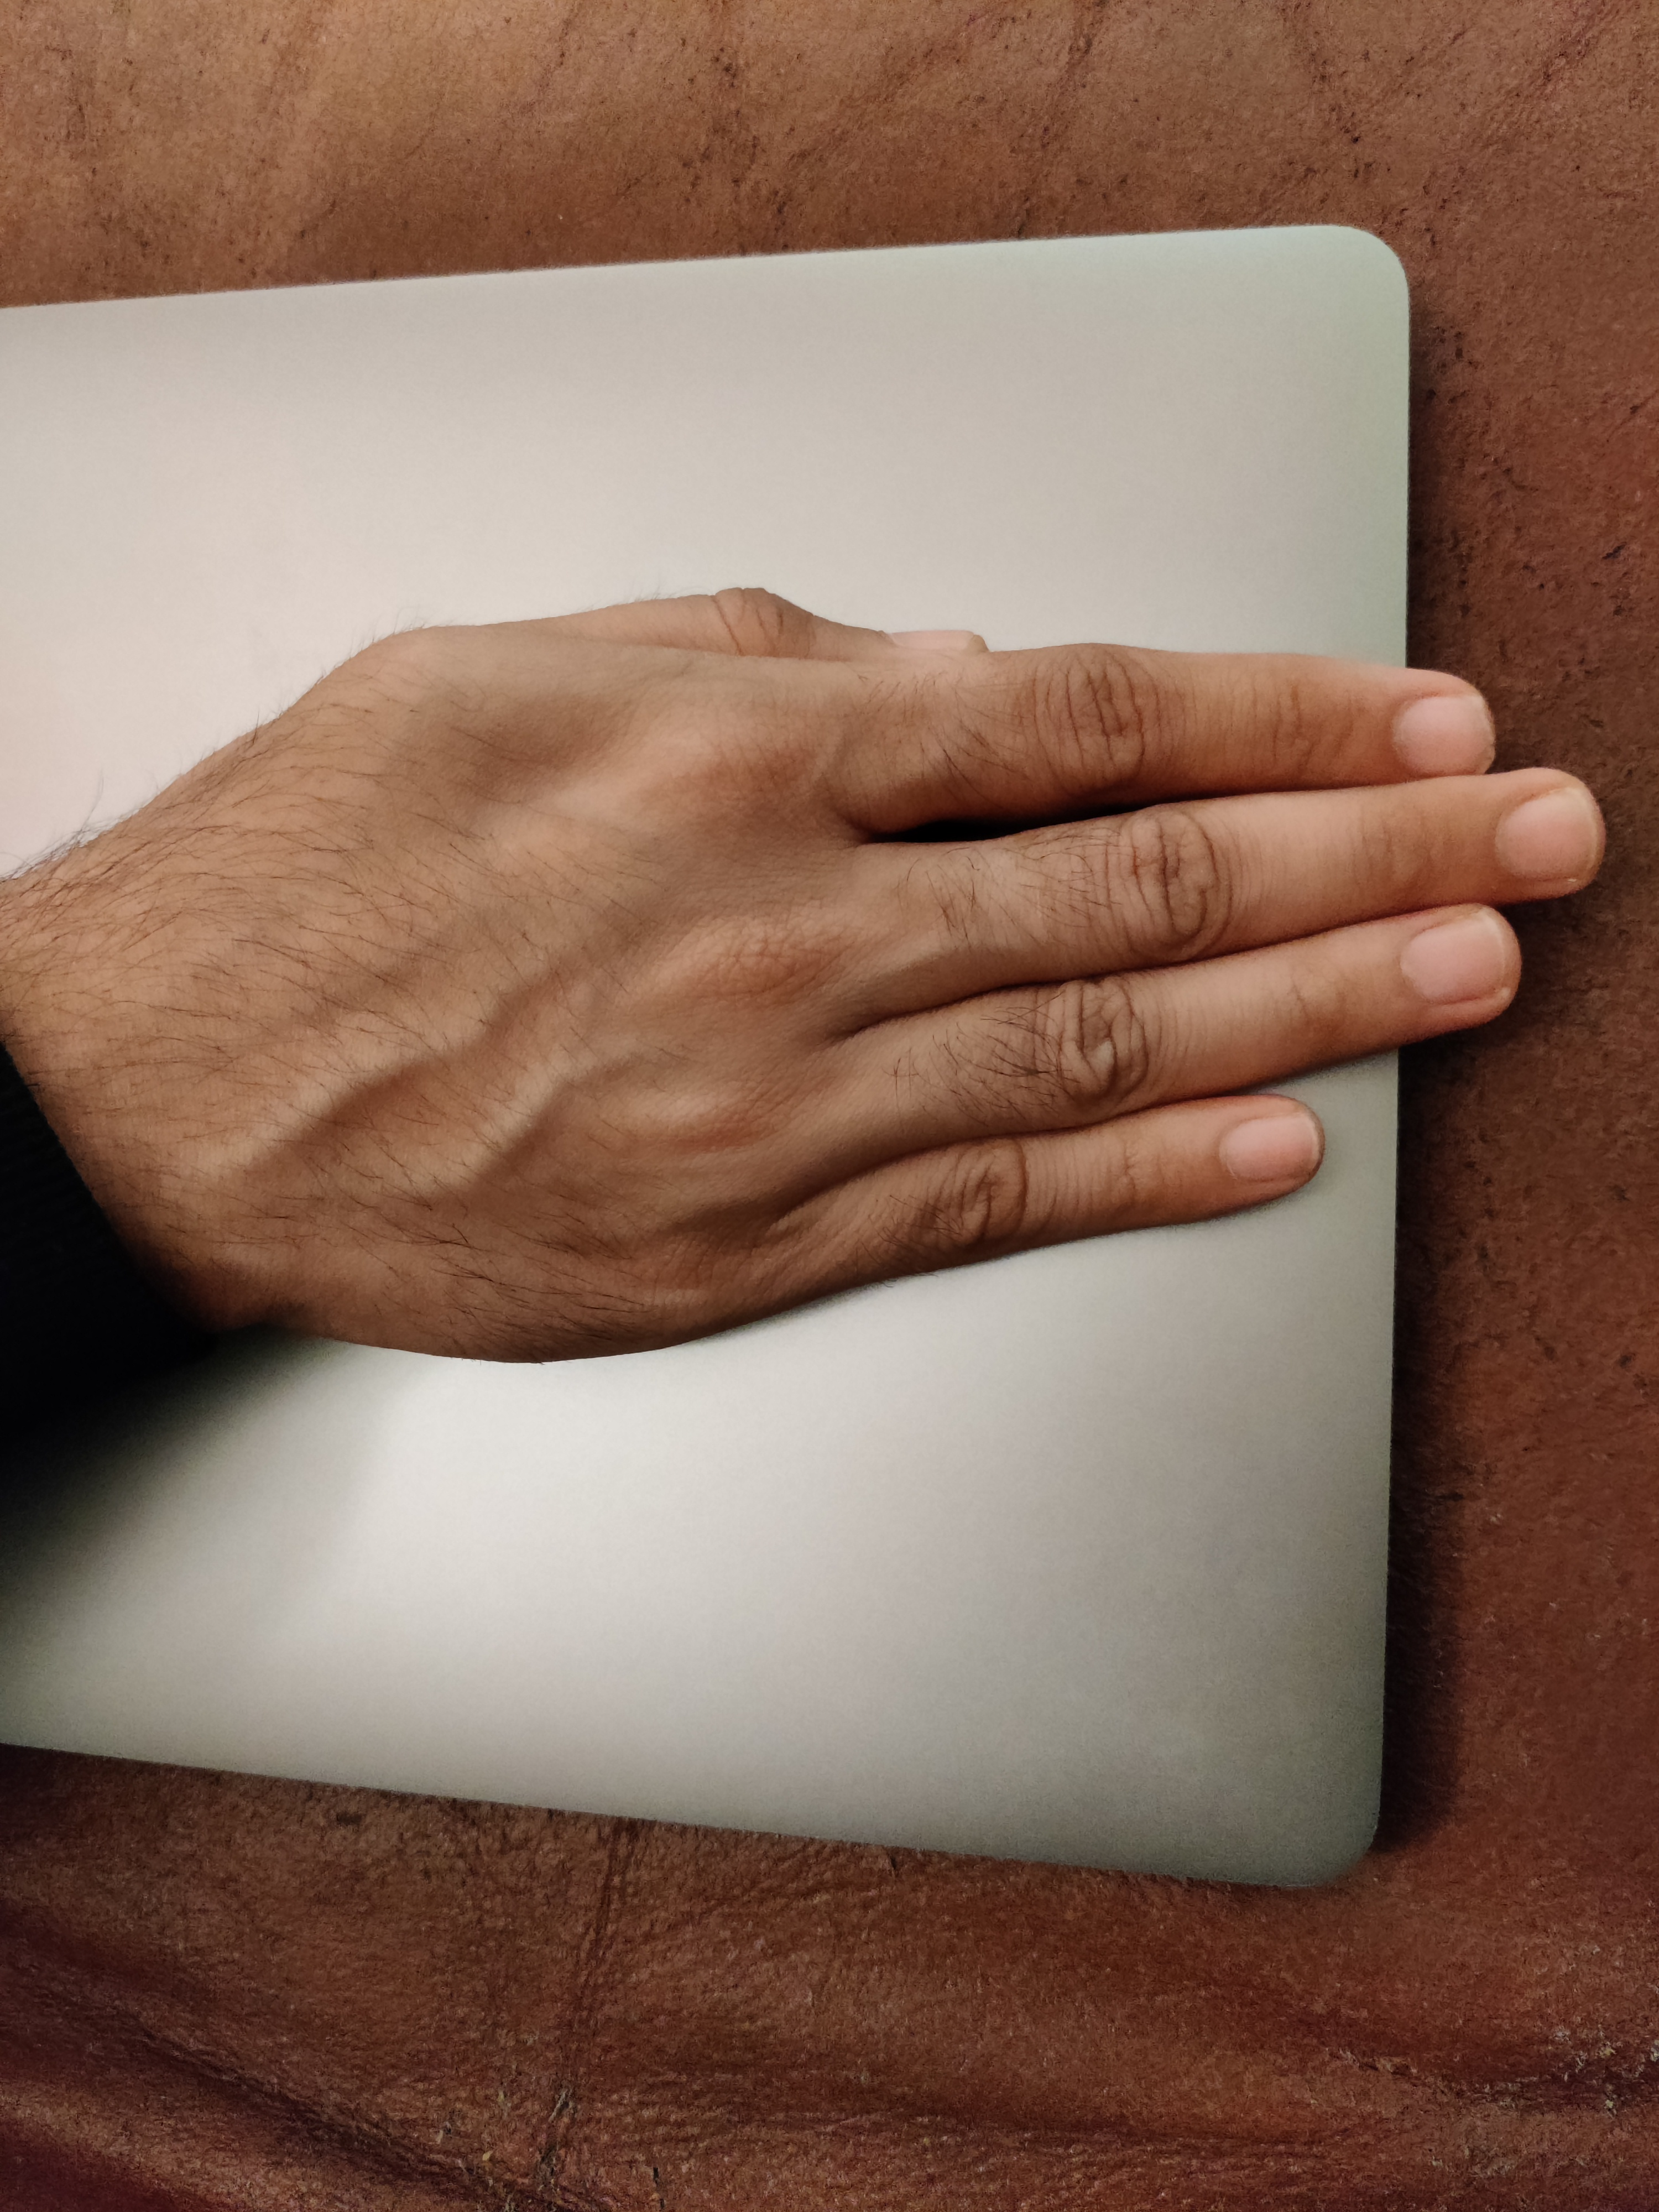left: (10, 204, 1633, 1517)
